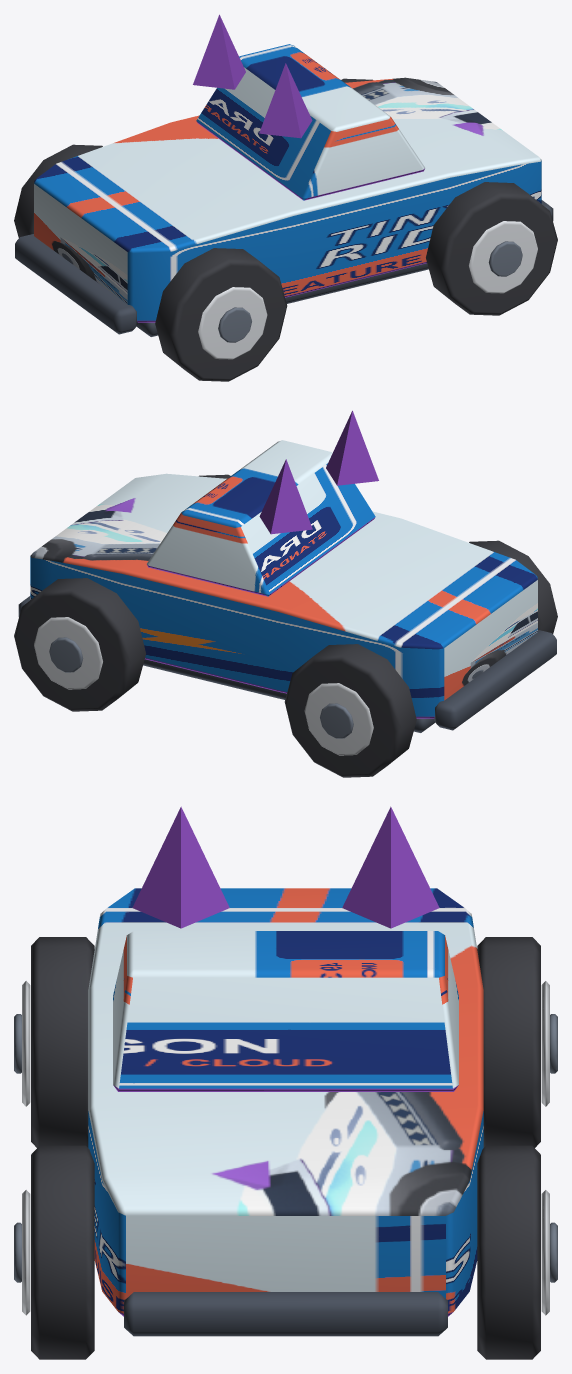
3 renders of one model, top to bottom at view 1: azimuth 30°, elevation 25°; view 2: azimuth 150°, elevation 25°; view 3: azimuth 270°, elevation 25°, orthographic. The views are drawn at different scales.
Visible parts, largest first — view 1: CR-05_connected_shell, CR-05_cabin, Tire.002, Tire, front bumper, Rim, Rim.002, horn.001, horn, Tire.001, underbody, Hub (+1 smaller); view 2: CR-05_connected_shell, CR-05_cabin, Tire.003, Tire.001, front bumper, Rim.001, Rim.003, horn, horn.001, Tire, underbody, Hub.001 (+1 smaller); view 3: CR-05_connected_shell, CR-05_cabin, rear bumper, Tire.002, Tire.003, Tire, Tire.001, horn, horn.001, Rim, Rim.001, Rim.002 (+1 smaller).
Boxes of the visible parts, box(x1,y1,x2,y2) form: CR-05_connected_shell: box(34, 77, 541, 322); CR-05_cabin: box(196, 44, 424, 200); Tire.002: box(426, 182, 557, 315); Tire: box(155, 248, 287, 381); front bumper: box(15, 234, 137, 334); Rim: box(198, 287, 267, 359); Rim.002: box(469, 221, 537, 293); horn.001: box(193, 14, 245, 89); horn: box(259, 63, 312, 138); Tire.001: box(14, 144, 102, 237); underbody: box(136, 263, 428, 336); Hub: box(218, 307, 251, 342); CR-05_connected_shell: box(30, 473, 537, 718); CR-05_cabin: box(147, 440, 375, 596); Tire.003: box(14, 578, 145, 711); Tire.001: box(284, 644, 416, 777); front bumper: box(434, 630, 556, 730); Rim.001: box(304, 683, 373, 755); Rim.003: box(34, 617, 102, 689); horn: box(326, 410, 378, 485); horn.001: box(259, 459, 312, 534); Tire: box(469, 540, 557, 633); underbody: box(143, 659, 435, 732); Hub.001: box(320, 703, 353, 738); CR-05_connected_shell: box(88, 888, 483, 1316); CR-05_cabin: box(113, 931, 458, 1091); rear bumper: box(124, 1292, 447, 1336); Tire.002: box(31, 1145, 94, 1359); Tire.003: box(477, 1145, 540, 1359); Tire: box(31, 937, 94, 1147); Tire.001: box(477, 937, 540, 1147); horn: box(132, 806, 229, 928); horn.001: box(342, 806, 439, 928); Rim: box(22, 981, 30, 1106); Rim.001: box(541, 981, 549, 1106); Rim.002: box(22, 1190, 30, 1315).
Bounding box in the file's own units: 330 × 187 × 223.
